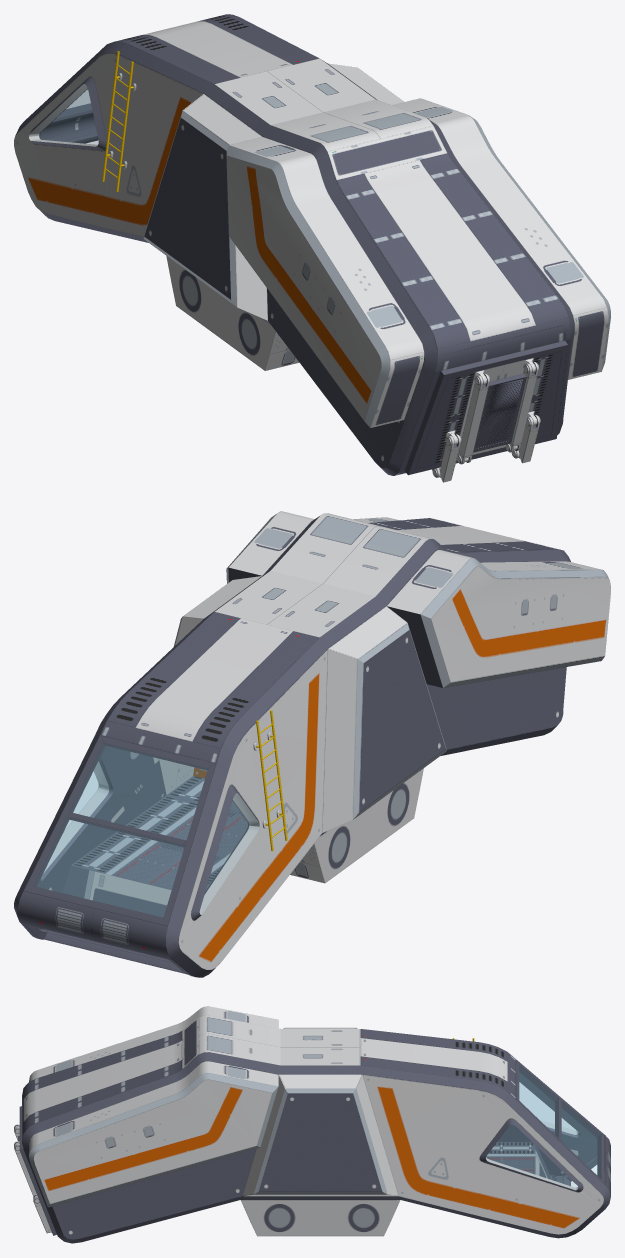
The model's file is Rover_Body_01.FBX.
3 views of the same model, one above another, from view 1: azimuth 30°, elevation 25°; view 2: azimuth 150°, elevation 25°; view 3: azimuth 270°, elevation 25° (orthographic). The views are drawn at different scales.
Parts seen in each view (by area): view 1: Body, Door_Back, Door_Ext_01, Glass, Interior; view 2: Body, Glass, Interior, Floor; view 3: Body, Glass, Interior, Floor, Door_Back, Door_Ext_01.
Boxes of the visible parts, x1,y1,x2,y2 form: Body: (14,14,610,477); Door_Back: (405,340,568,482); Door_Ext_01: (457,362,538,464); Glass: (29,85,98,145); Interior: (29,84,98,146); Body: (14,511,610,977); Glass: (34,744,258,917); Interior: (26,743,259,974); Floor: (62,776,247,917); Body: (22,1006,610,1243); Glass: (486,1066,600,1189); Interior: (486,1064,601,1190); Floor: (486,1142,550,1179); Door_Back: (14,1106,56,1235); Door_Ext_01: (14,1124,36,1196).
Bounding box in the file's own units: 9.93 × 10.19 × 29.87.
